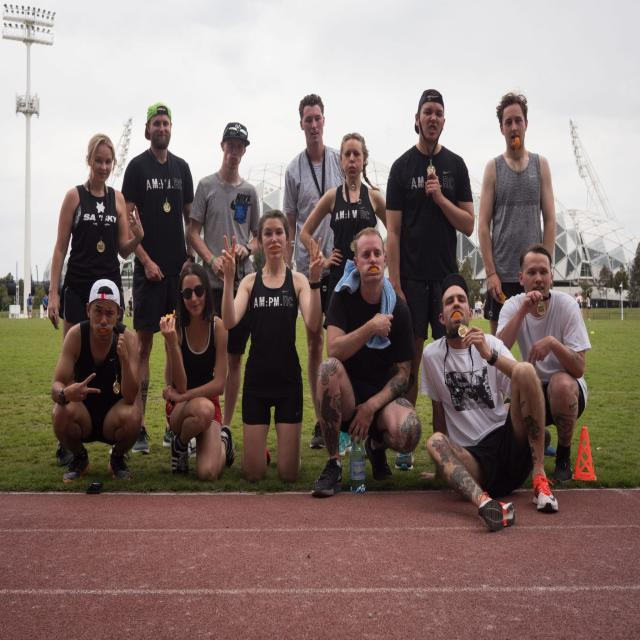body: (416, 271, 570, 534), (383, 87, 477, 473), (309, 226, 423, 499), (217, 208, 325, 482), (118, 103, 201, 457), (299, 132, 387, 454), (280, 92, 350, 451), (493, 243, 591, 485), (188, 121, 264, 428), (47, 133, 145, 345), (477, 92, 558, 338), (50, 278, 141, 486), (159, 262, 236, 482), (583, 292, 591, 321), (26, 293, 34, 319), (25, 292, 33, 318), (577, 290, 584, 317), (42, 294, 49, 318), (127, 296, 134, 318), (474, 294, 480, 318), (574, 292, 582, 306), (477, 299, 482, 319), (482, 300, 486, 314), (46, 295, 49, 306)
